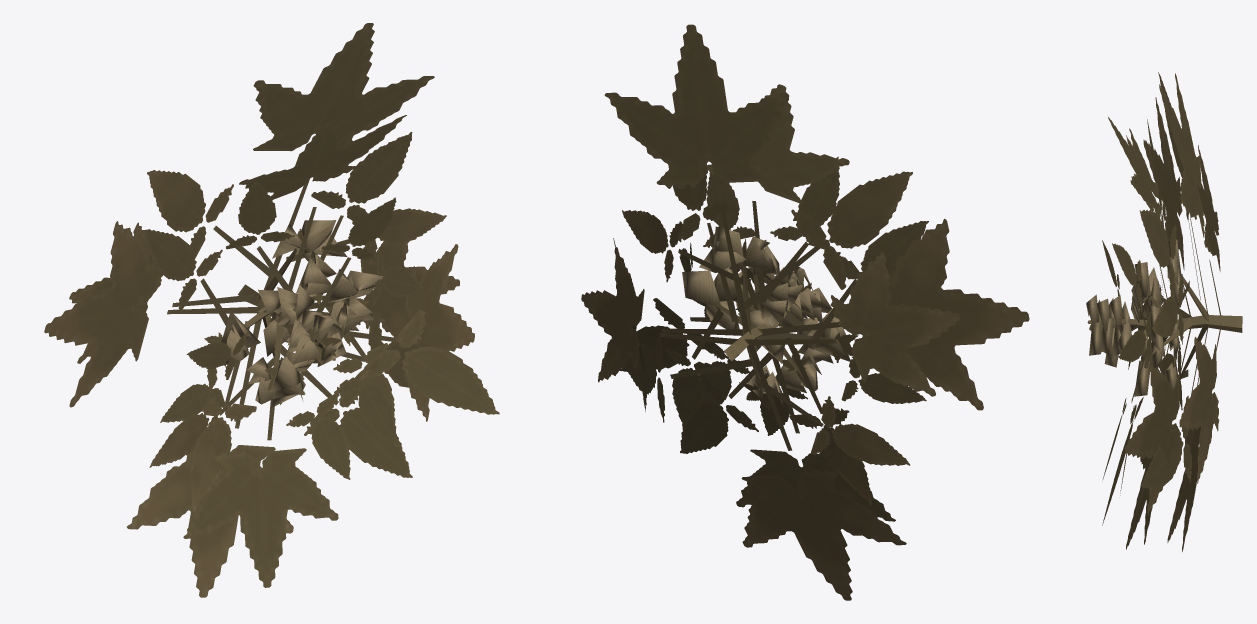
Rendered from p_male_auto_ripe_c4_cards.obj.
The picture shows the model from 3 angles, left to right: view 1: azimuth 30°, elevation 25°; view 2: azimuth 150°, elevation 25°; view 3: azimuth 270°, elevation 25°; orthographic projection.
Bounding box in the file's own units: 1.23 × 1.38 × 0.33.
1 material, 1 textured.
